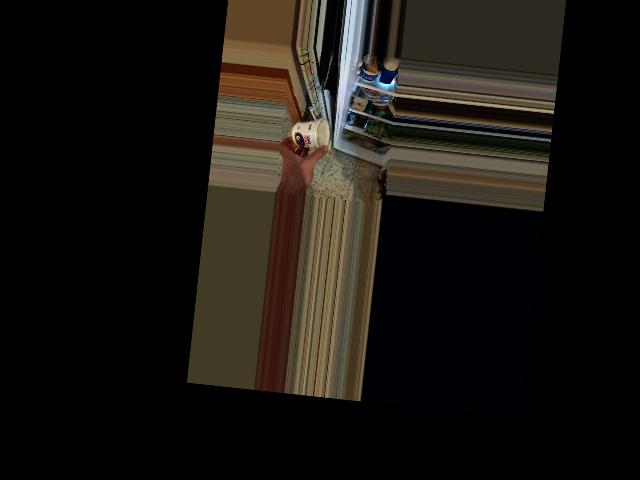cotage: (289, 114, 331, 153)
